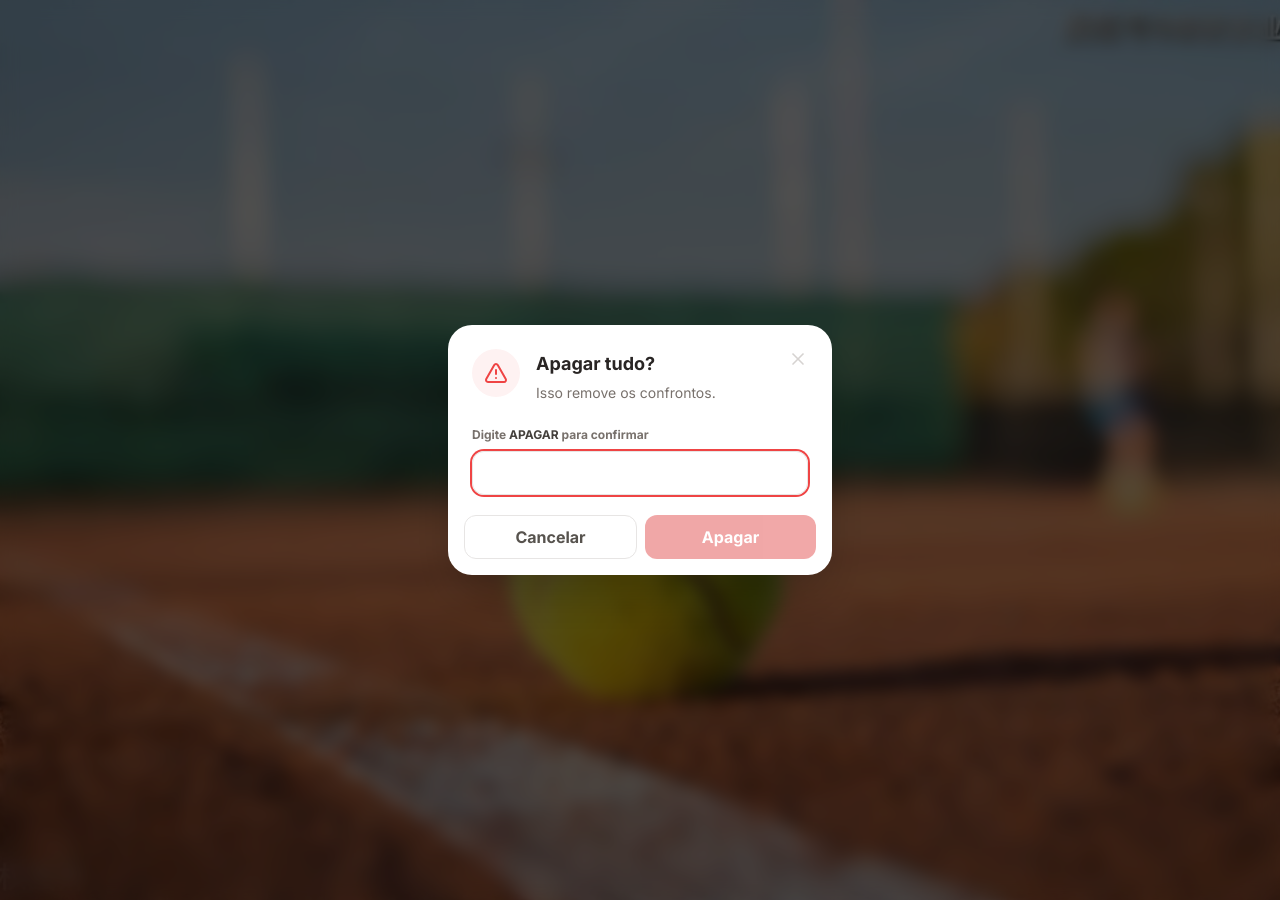
Test case: ConfirmDialog › com confirmação tipada › libera o botão quando a palavra confere
Type "APAGAR" into the field labelled "Digite APAGAR para confirmar" at coordinates (640, 473), box x1=472 y1=451 x2=808 y2=495
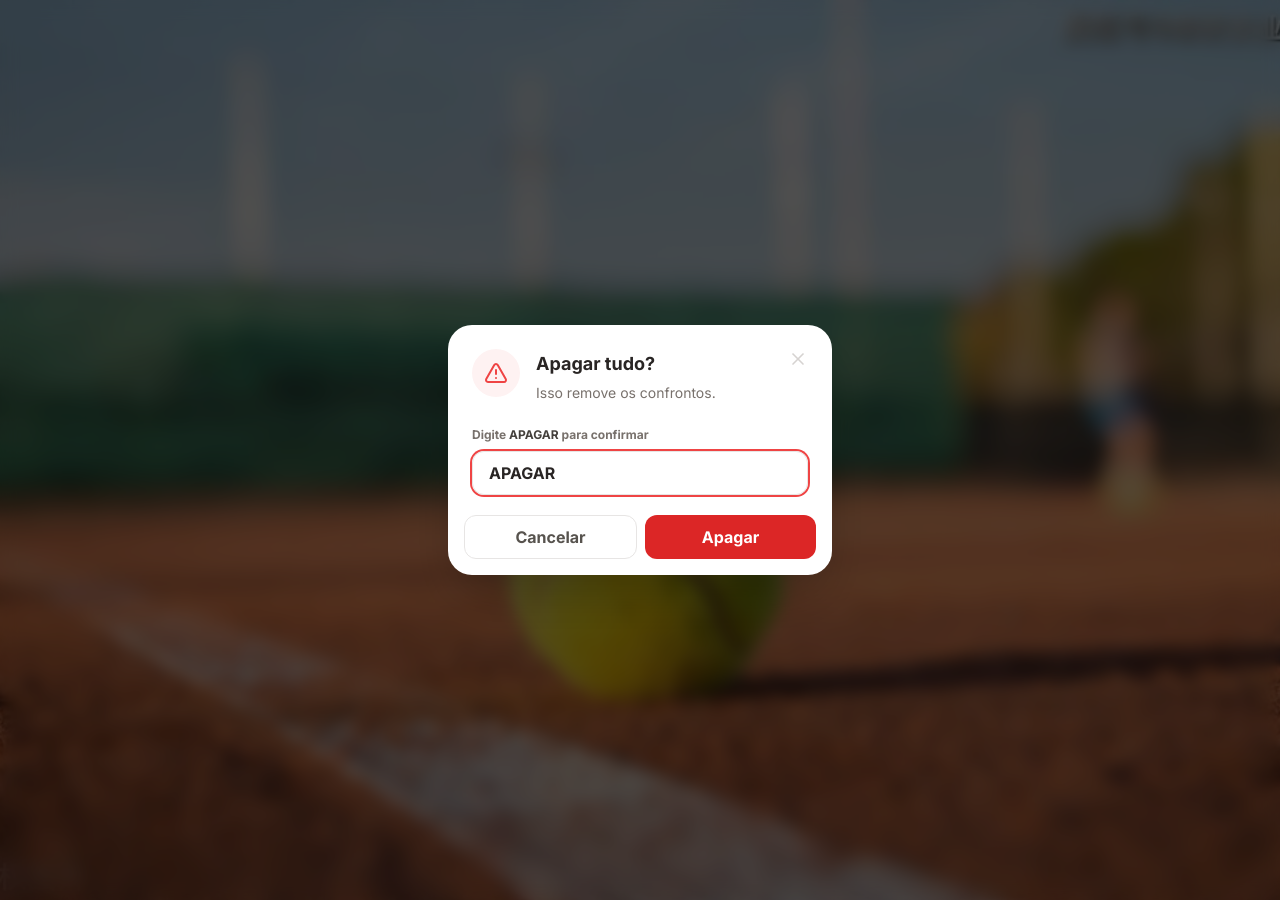
Expected: the button "Apagar" is enabled, x1=645 y1=515 x2=816 y2=559
